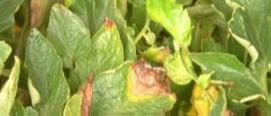Tomato mold leaf: (49, 52, 181, 116), (6, 31, 75, 116), (189, 48, 267, 106), (0, 0, 43, 40)
